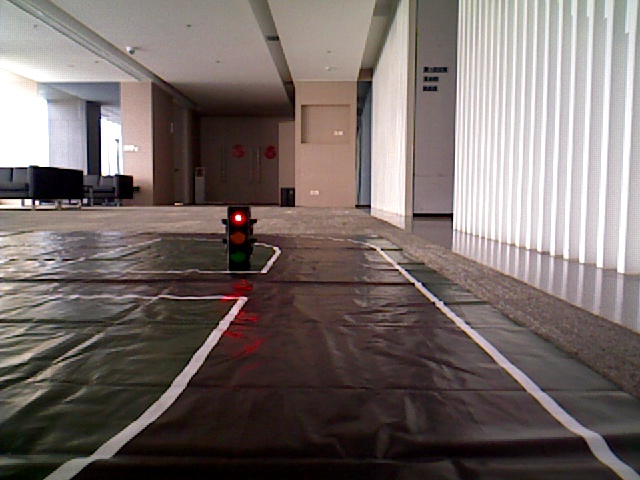red: (227, 209, 249, 262)
